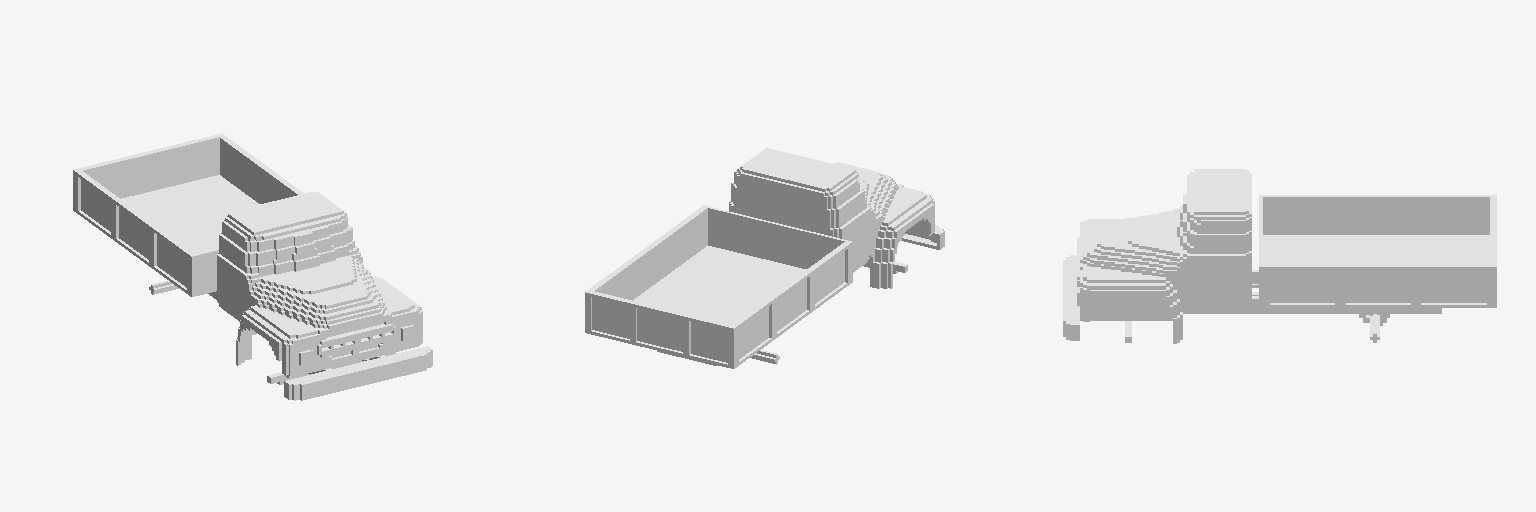
Rendered from zil-130-4.obj.
3 views of the same model, side by side, from view 1: azimuth 30°, elevation 25°; view 2: azimuth 150°, elevation 25°; view 3: azimuth 270°, elevation 25° (orthographic).
Parts seen in each view (by area): view 1: object 1; view 2: object 1; view 3: object 1.
Boxes of the visible parts, x1,y1,x2,y2 form: object 1: [73, 133, 432, 400]; object 1: [585, 148, 944, 368]; object 1: [1063, 169, 1496, 343].
Size of the model in its own units: 5 by 4.2 by 12.6.